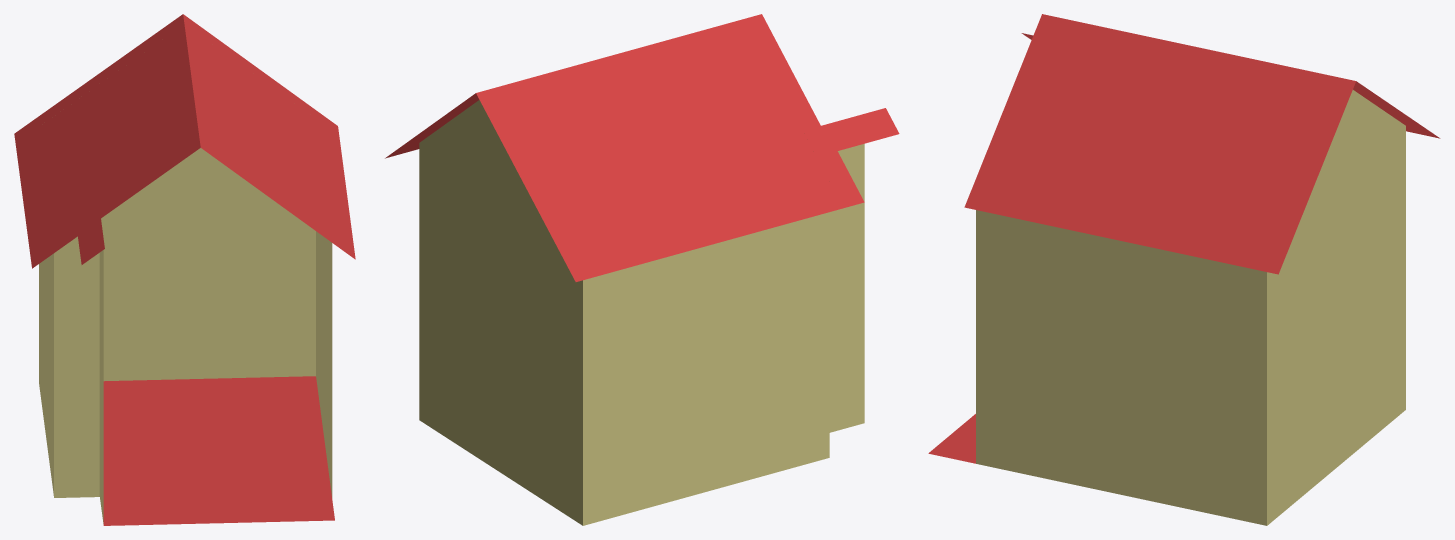
3 views of the same model, side by side, from view 1: azimuth 30°, elevation 25°; view 2: azimuth 150°, elevation 25°; view 3: azimuth 270°, elevation 25° (orthographic). The views are drawn at different scales.
Size of the model in its own units: 9.27 by 9.87 by 8.38.
